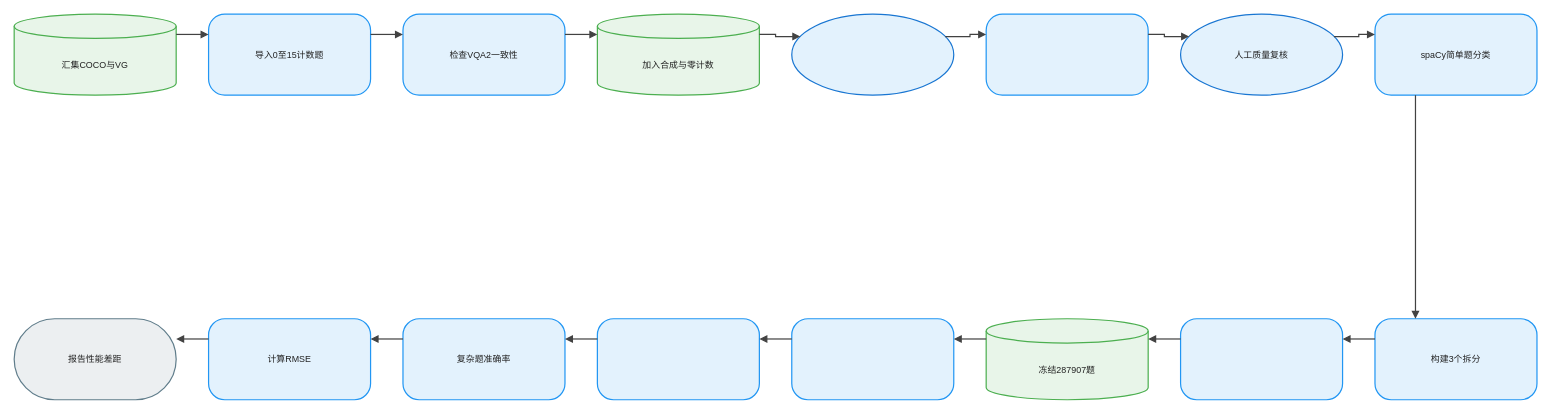
Some shapes in this 1552 by 415 pixel diagram are drawn without their labels. Here are the shapes that lost their labels. From the top down, the centre of each, then its label:
At (872,54): "AMT采19500复杂题".
At (1066,54): "要求困难反例".
At (678,359): "简单题准确率".
At (872,359): "预测整数".
At (1261,359): "防止图像重叠".
